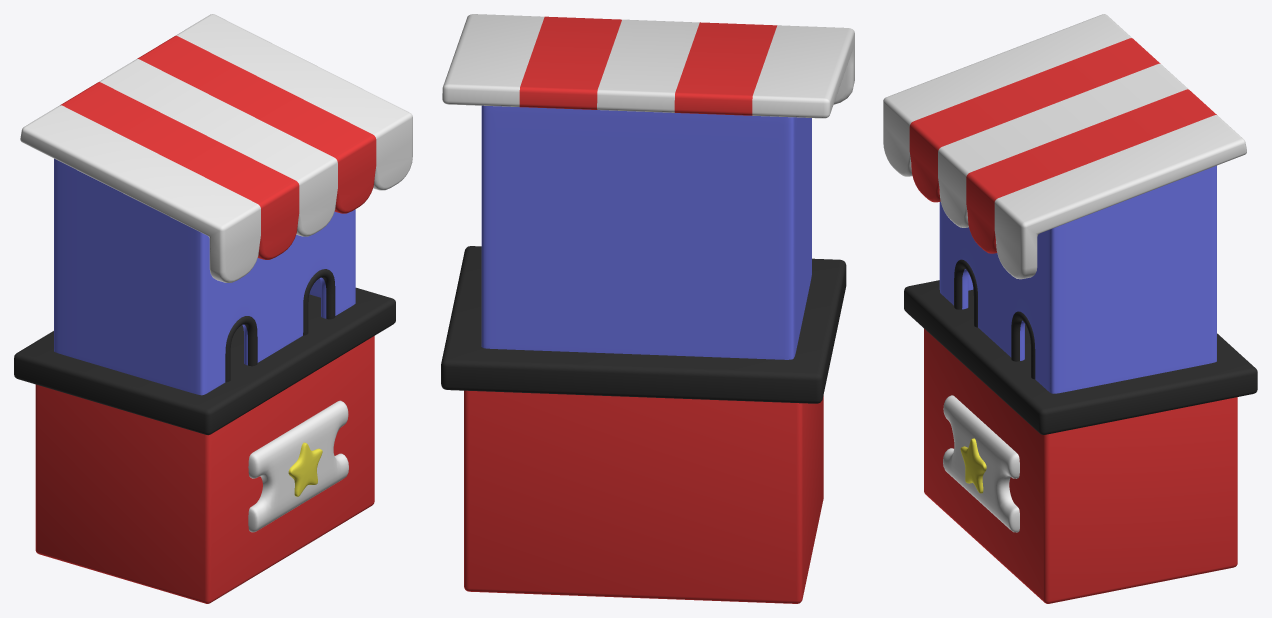
The model's file is Ticket Locket.glb.
3 views of the same model, side by side, from view 1: azimuth 30°, elevation 25°; view 2: azimuth 150°, elevation 25°; view 3: azimuth 270°, elevation 25° (orthographic). The views are drawn at different scales.
Visible parts, largest first — view 1: Cube.053, Ticket Locket, Cube.052, Cube.051, Plane.018, Cube.079, Star.001; view 2: Cube.052, Ticket Locket, Cube.053, Cube.051; view 3: Cube.053, Ticket Locket, Cube.052, Cube.051, Plane.018, Cube.079, Star.001.
Part boxes in pixels (bbox=[...]): Cube.053: bbox=[20, 14, 412, 282]; Ticket Locket: bbox=[35, 336, 374, 603]; Cube.052: bbox=[54, 158, 355, 395]; Cube.051: bbox=[14, 287, 395, 435]; Plane.018: bbox=[248, 400, 348, 532]; Cube.079: bbox=[225, 269, 335, 382]; Star.001: bbox=[288, 442, 322, 496]; Cube.052: bbox=[481, 105, 811, 359]; Ticket Locket: bbox=[464, 390, 823, 603]; Cube.053: bbox=[442, 14, 854, 118]; Cube.051: bbox=[441, 246, 846, 403]; Cube.053: bbox=[883, 14, 1246, 279]; Ticket Locket: bbox=[924, 328, 1237, 603]; Cube.052: bbox=[939, 165, 1216, 393]; Cube.051: bbox=[904, 280, 1257, 434]; Plane.018: bbox=[943, 395, 1019, 532]; Cube.079: bbox=[954, 259, 1035, 379]; Star.001: bbox=[960, 438, 986, 493].
Bounding box in the file's own units: 2.95 × 3.49 × 2.72.
